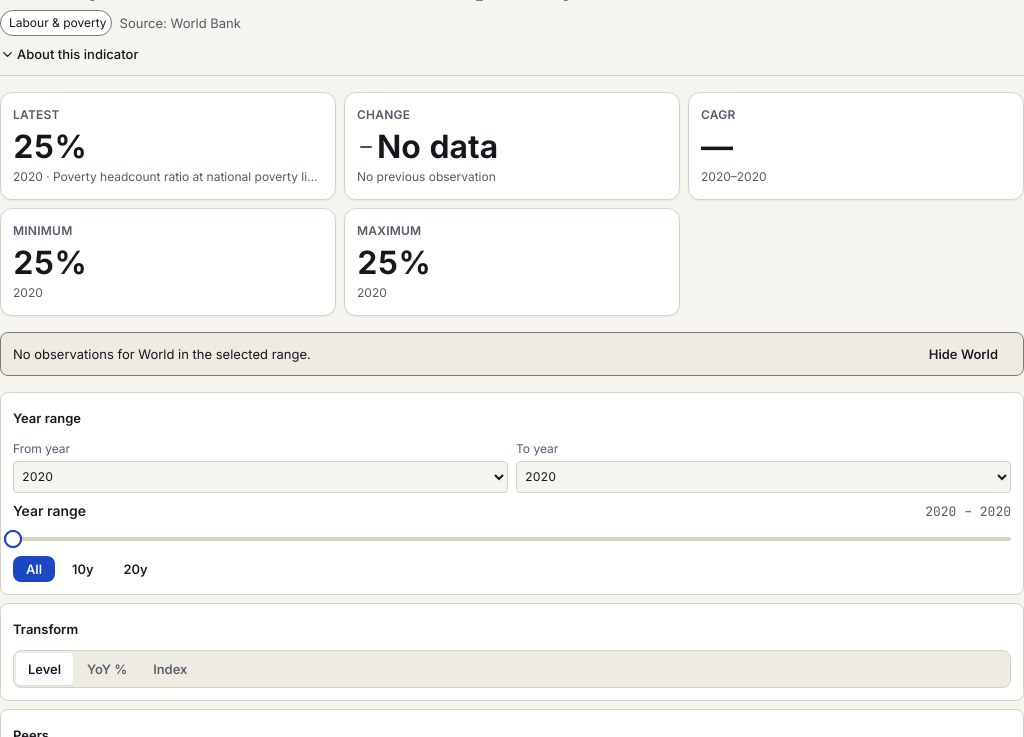
Test: ExplorePage › announces a missing peer and lets the user remove it
(page scrolled)
Expected: the text "No observations for World in the selected range." is shown, left=13, top=344, right=311, bottom=364
Step 1. Click the button "Hide World" → (963, 354), box left=916, top=340, right=1011, bottom=366
(page scrolled)
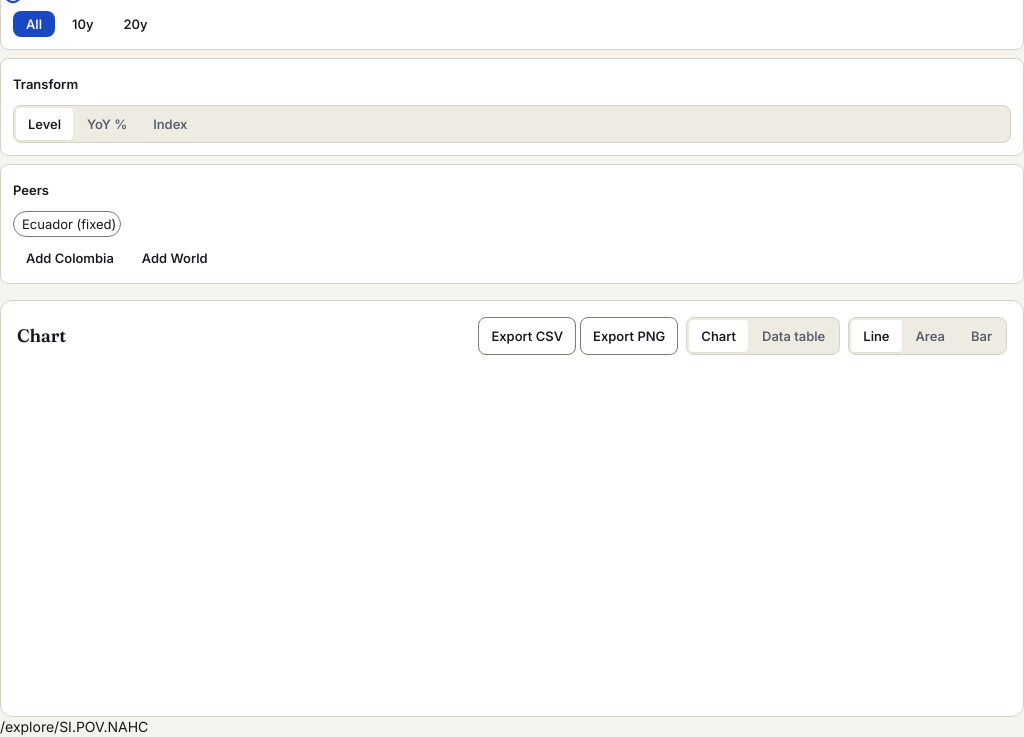
Expected: the text with test id "location" reads "/explore/SI.POV.NAHC", left=0, top=718, right=148, bottom=735
Expected: the text "No observations for World" is gone
